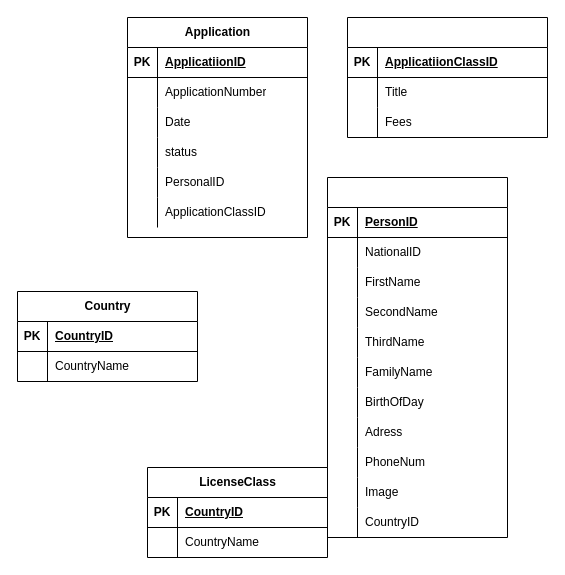
The diagram is 565 pixels wide and 575 high, and some of its shapes have lost their labels. The shapes that lost their labels are listed below. From the top down, each one's box as (x1, y1, x2, y2) in pixels, then its label:
(346, 16, 548, 138): ApplicationClass
(326, 176, 508, 538): People
